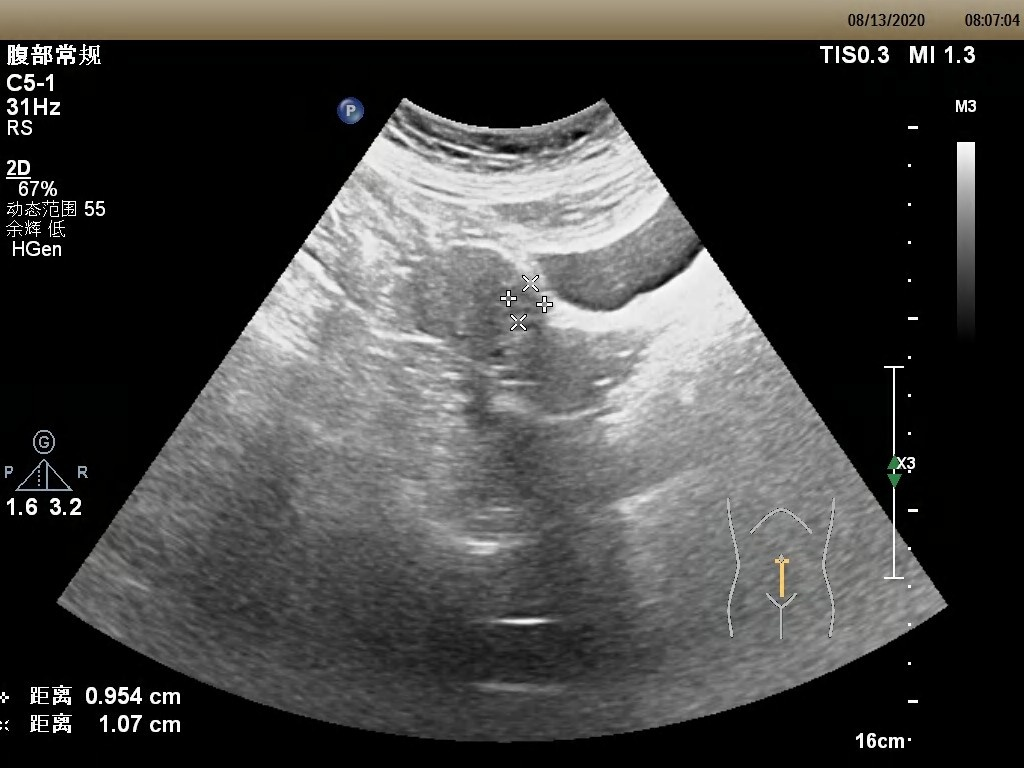肌瘤: (509, 283, 546, 323)
